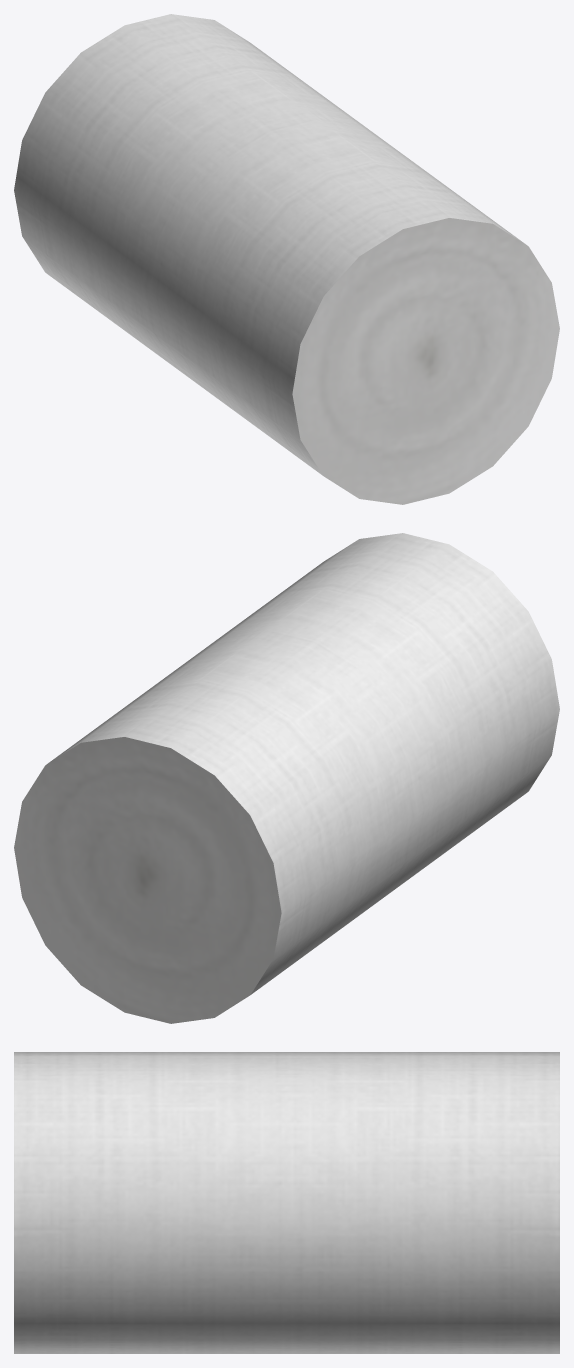
The model's file is gauze rolled.FBX.
3 renders of one model, top to bottom at view 1: azimuth 30°, elevation 25°; view 2: azimuth 150°, elevation 25°; view 3: azimuth 270°, elevation 25°, orthographic.
Parts seen in each view (by area): view 1: gauze rolled; view 2: gauze rolled; view 3: gauze rolled.
Part boxes in pixels (x1=…): gauze rolled: x1=14, y1=14, x2=559, y2=504; gauze rolled: x1=14, y1=533, x2=559, y2=1023; gauze rolled: x1=14, y1=1052, x2=559, y2=1353.
Bounding box in the file's own units: 3.71 × 6.69 × 3.66.
